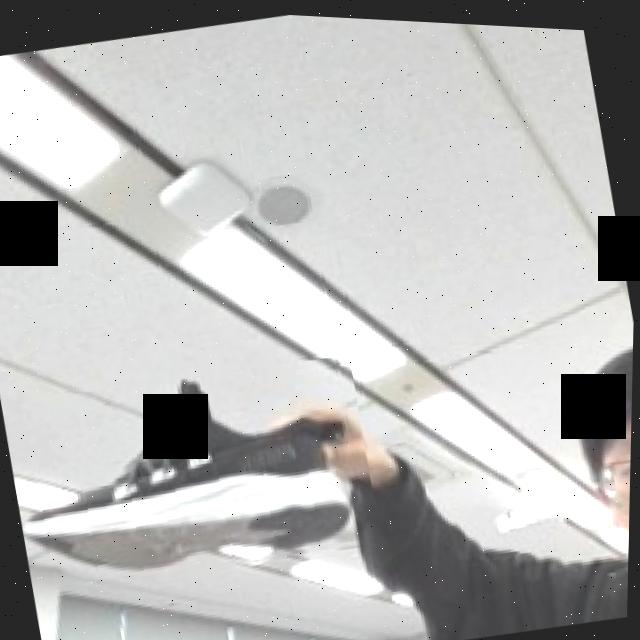shoe: (0, 336, 388, 612)
